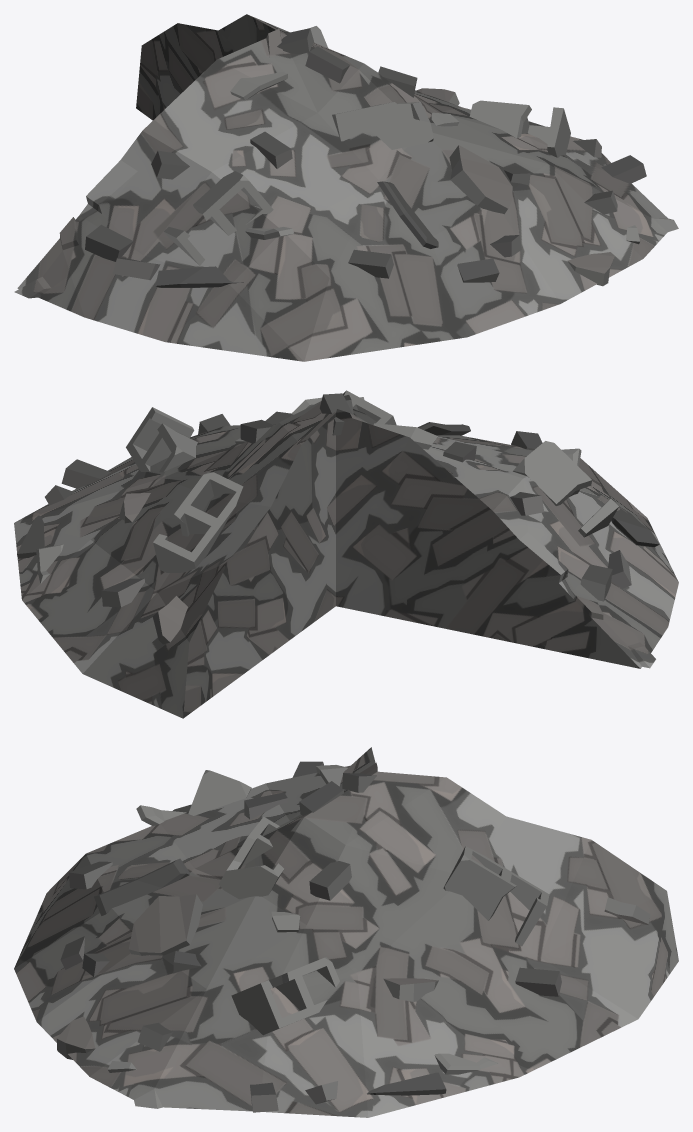
Rendered from SM_Prop_Rubble_Pile_06.fbx.
3 views of the same model, one above another, from view 1: azimuth 30°, elevation 25°; view 2: azimuth 150°, elevation 25°; view 3: azimuth 270°, elevation 25° (orthographic). The views are drawn at different scales.
Visible parts, largest first — view 1: SM_Prop_Rubble_Pile_06; view 2: SM_Prop_Rubble_Pile_06; view 3: SM_Prop_Rubble_Pile_06.
Boxes of the visible parts, x1,y1,x2,y2 form: SM_Prop_Rubble_Pile_06: (14, 14, 678, 361); SM_Prop_Rubble_Pile_06: (14, 390, 678, 718); SM_Prop_Rubble_Pile_06: (14, 747, 678, 1117).
Size of the model in its own units: 315 by 99.39 by 295.
